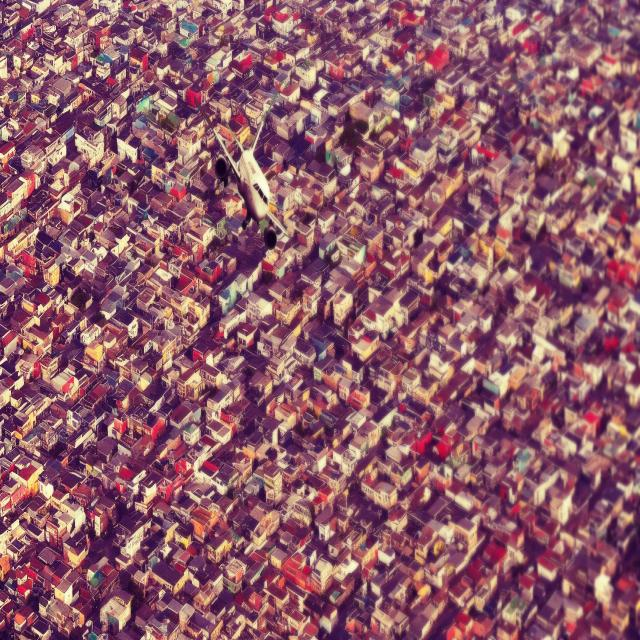airplane: (191, 88, 291, 242)
